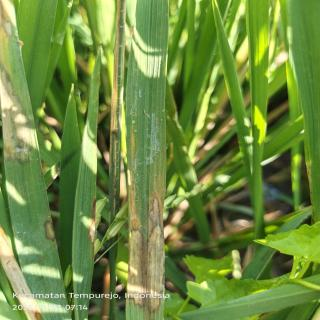Blast: (127, 193, 166, 293), (39, 214, 58, 249)
